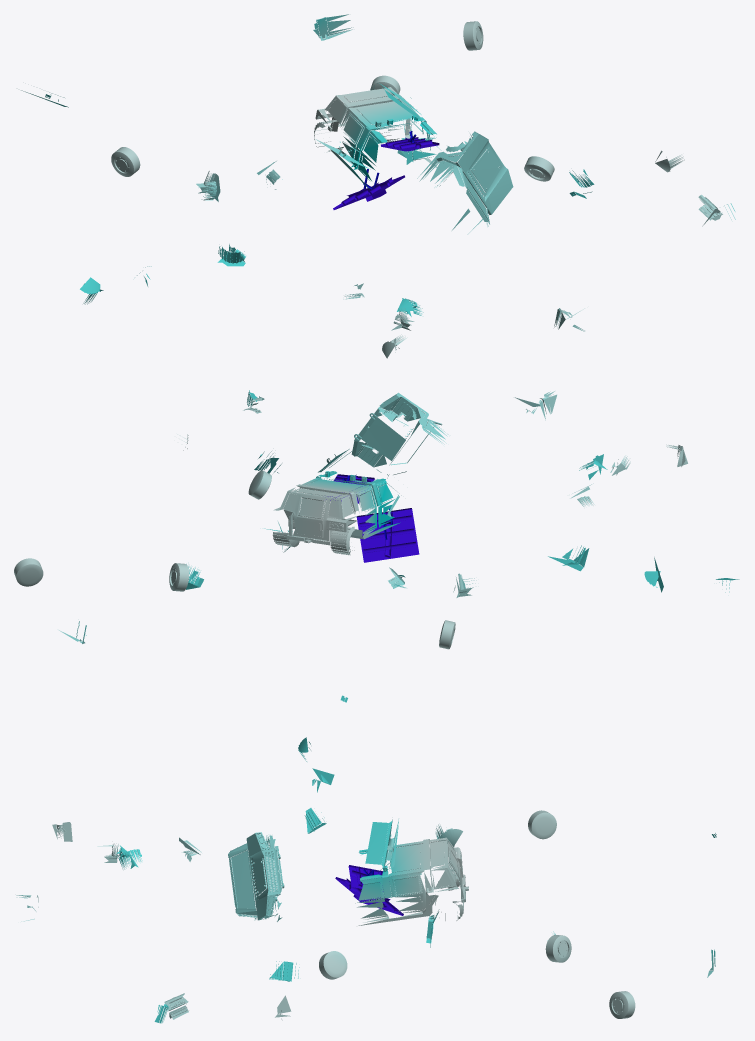
File: jeep_wreck.glb
3 views of the same model, one above another, from view 1: azimuth 30°, elevation 25°; view 2: azimuth 150°, elevation 25°; view 3: azimuth 270°, elevation 25° (orthographic). The views are drawn at different scales.
Visible parts, largest first — view 1: jeep, jeep_cab, wrecked_wheel_r1, wrecked_wheel_r0, debris; view 2: jeep, jeep_cab, frame, wrecked_wheel_l1; view 3: jeep, jeep_cab, jeep_plate, wrecked_wheel_r1, wrecked_wheel_r0, wrecked_wheel_l1, wrecked_wheel_l0.
Part boxes in pixels (x1,y1,x2,y2): jeep: (314,87,441,189); jeep_cab: (417,131,513,234); wrecked_wheel_r1: (111,147,140,176); wrecked_wheel_r0: (524,156,554,181); debris: (313,14,353,40); jeep: (272,471,400,555); jeep_cab: (351,392,448,495); frame: (356,508,419,562); wrecked_wheel_l1: (14,558,43,586); jeep: (355,837,468,925); jeep_cab: (228,832,284,921); jeep_plate: (365,819,398,870); wrecked_wheel_r1: (528,810,556,839); wrecked_wheel_r0: (319,951,347,979); wrecked_wheel_l1: (609,991,635,1018); wrecked_wheel_l0: (545,935,571,962).
Size of the model in its own units: 19.08 by 3.46 by 21.28.
